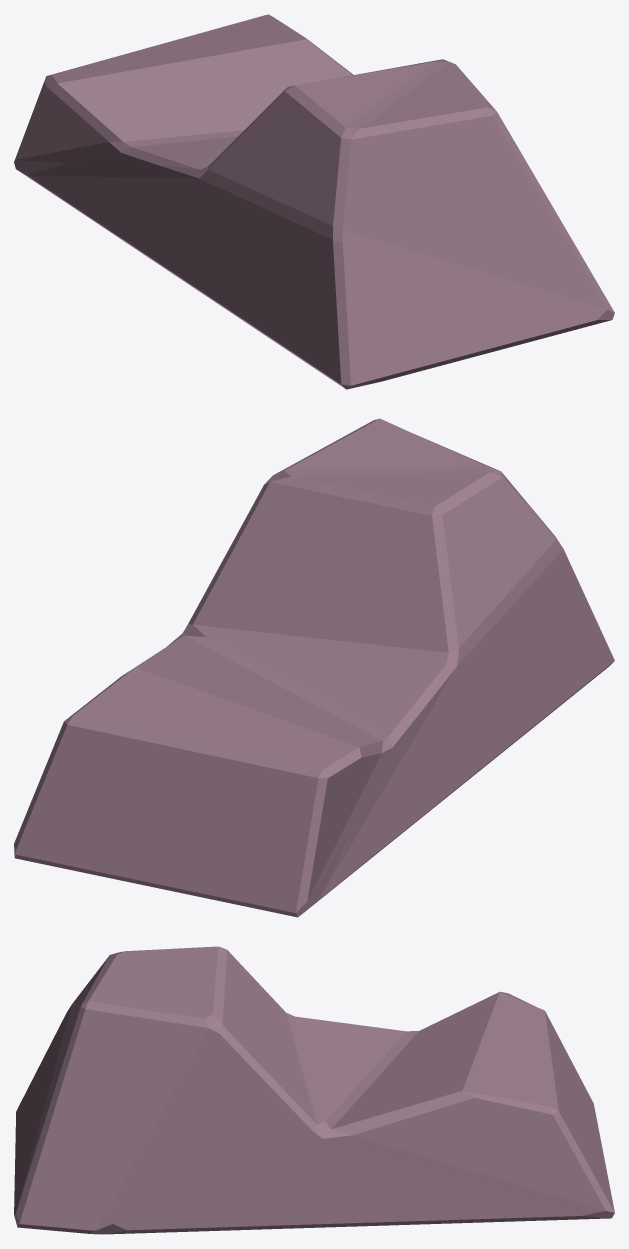
Rendered from Factory_Rock_3.fbx.
3 renders of one model, top to bottom at view 1: azimuth 30°, elevation 25°; view 2: azimuth 150°, elevation 25°; view 3: azimuth 270°, elevation 25°, orthographic. The views are drawn at different scales.
Parts seen in each view (by area): view 1: Factory Rock 3; view 2: Factory Rock 3; view 3: Factory Rock 3.
Boxes of the visible parts, left/top/right/bottom form: Factory Rock 3: left=14, top=14, right=614, bottom=389; Factory Rock 3: left=14, top=418, right=614, bottom=917; Factory Rock 3: left=14, top=946, right=614, bottom=1234.
Size of the model in its own units: 1360 by 909 by 2527.
